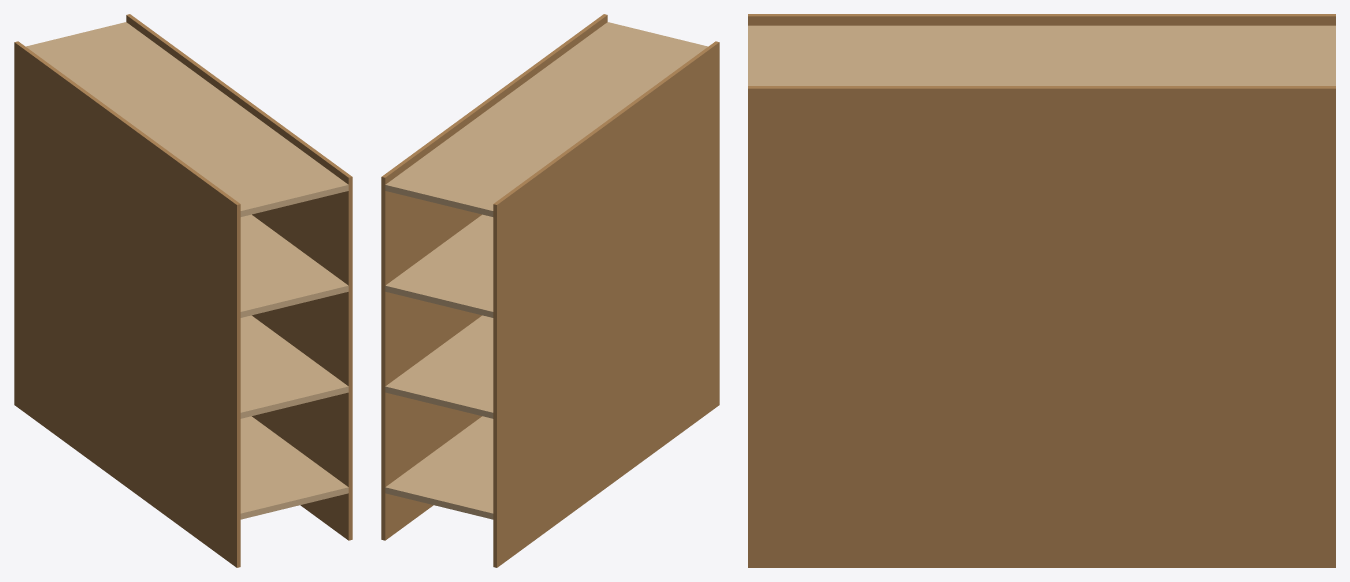
3 views of the same model, side by side, from view 1: azimuth 30°, elevation 25°; view 2: azimuth 150°, elevation 25°; view 3: azimuth 270°, elevation 25° (orthographic). The views are drawn at different scales.
Visible parts, largest first — view 1: estante_consulta; view 2: estante_consulta; view 3: estante_consulta.
Boxes of the visible parts, box(x1,y1,x2,y2) form: estante_consulta: box(14, 14, 352, 567); estante_consulta: box(381, 14, 719, 567); estante_consulta: box(748, 14, 1335, 567).
Bounding box in the file's own units: 0.6 × 2 × 1.8.
